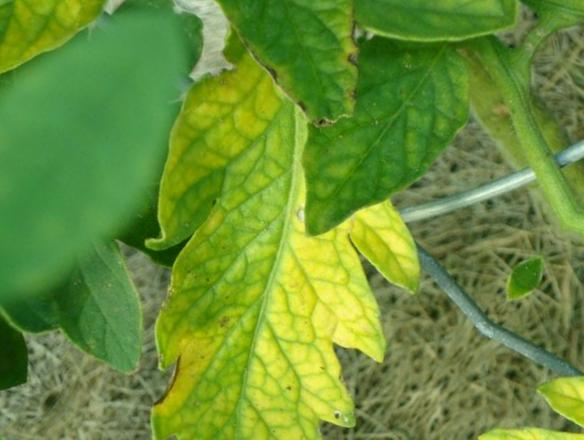Tomato mold leaf: (0, 27, 537, 440), (252, 0, 515, 272), (168, 0, 449, 150)
